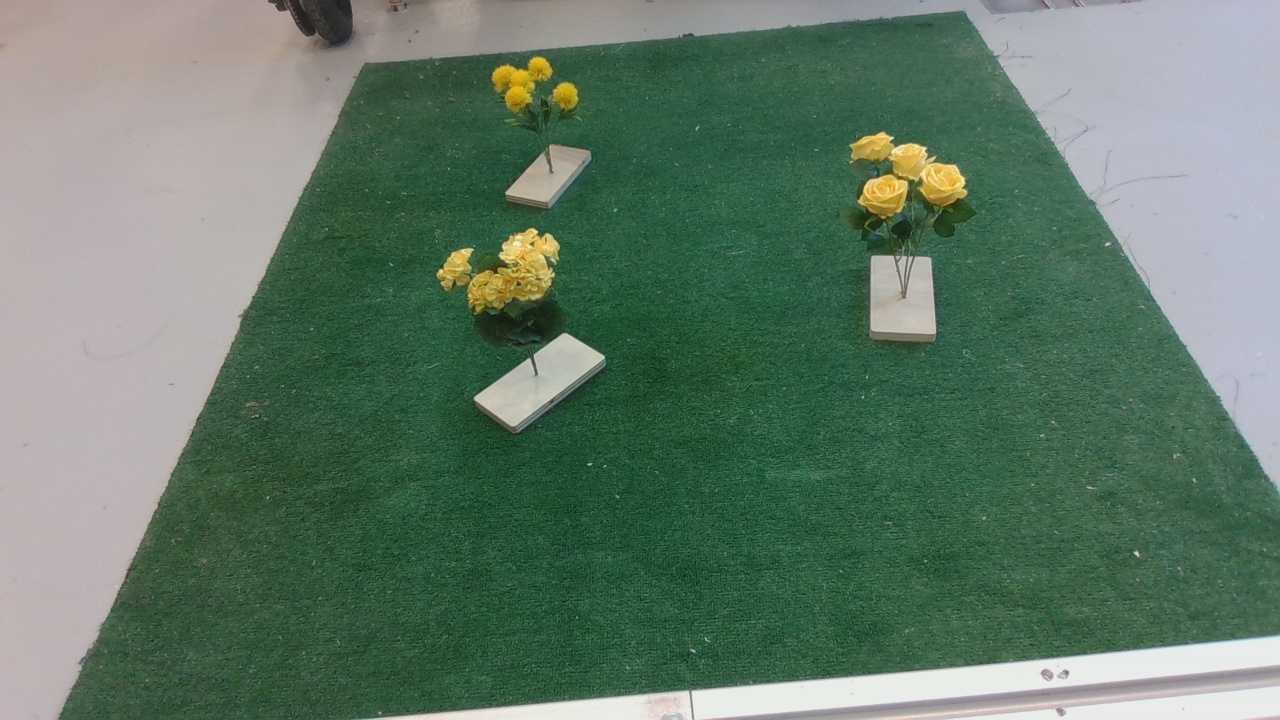dandelion: (486, 58, 596, 150)
geranium: (438, 226, 576, 362)
rose: (843, 121, 985, 267)
